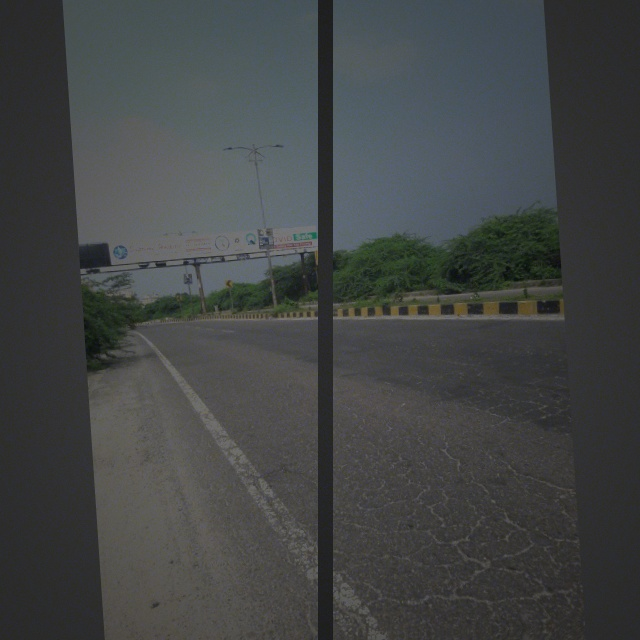Cattle: (312, 246, 333, 266)
